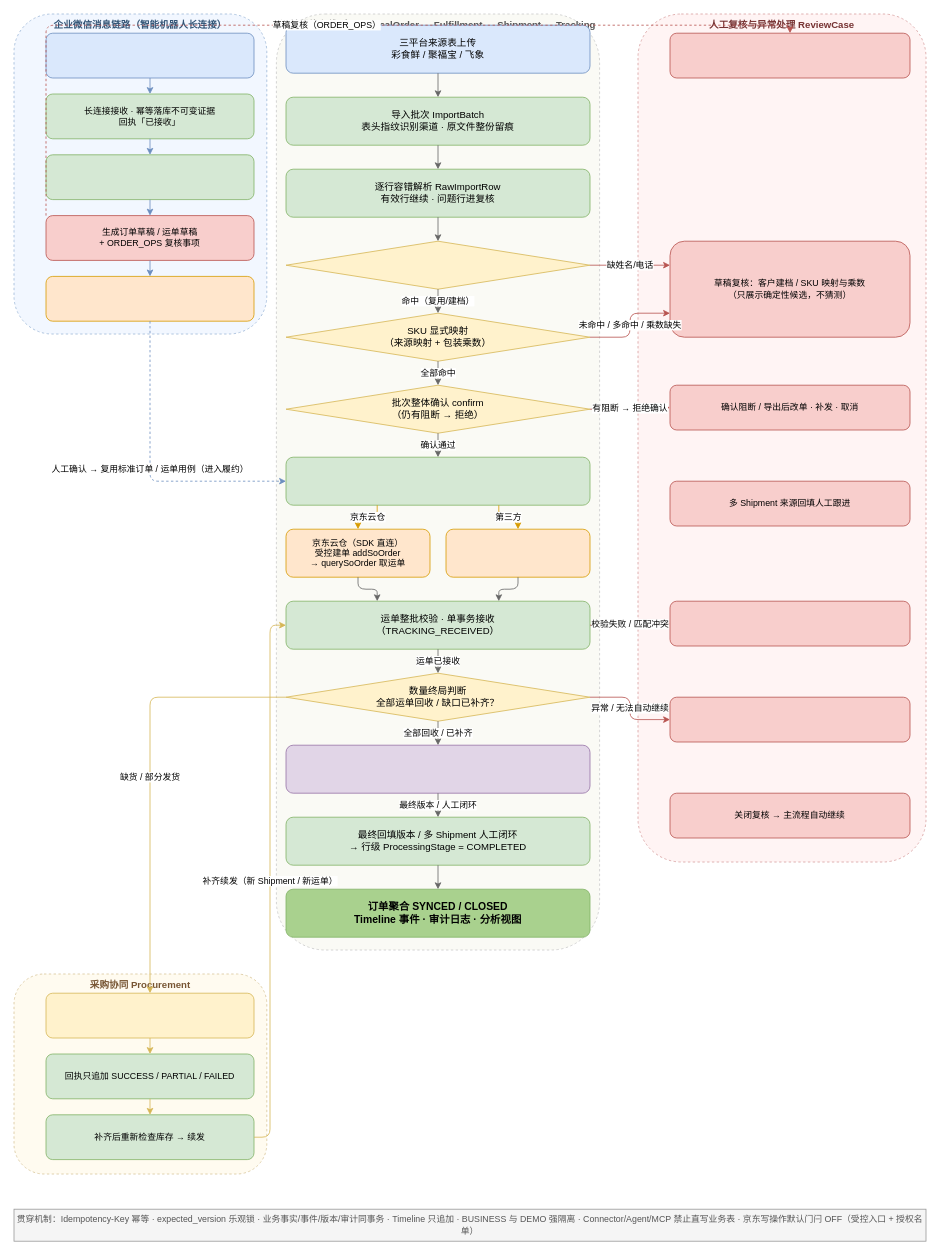
Some shapes in this 940 by 1255 pixel diagram are drawn without their labels. The shapes that lost their labels are listed below. From the top down, each one's centre as x and y in pixels, then its label:
pixel 149 55: 企微业务群 @机器人 转发消息
pixel 789 55: 复核事项 ReviewCase（OPEN） 人工闭环唯一通道 · 不可自动关闭
pixel 149 177: 异步意图识别 MessageIntent 媒体下载解密 · 模型可换
pixel 437 264: 客户匹配 （规范化姓名 + 手机号二元组）
pixel 149 298: 人工确认
pixel 437 480: 生成 Fulfillment + Shipment(CREATED) + 履约导出文件（履约字段冻结）
pixel 517 552: 第三方供应商 按发货清单发货 → 运单回传文件
pixel 789 623: 运单匹配冲突 / 回传校验失败
pixel 789 719: 通用 resolve / dismiss （原因码白名单 · 幂等 · 版本 · 审计）
pixel 437 768: 生成来源回填表（平台原格式） 来源份数 + 快递公司 + 运单号
pixel 149 1015: 采购工单 ProcurementTicket （缺口量明细）
